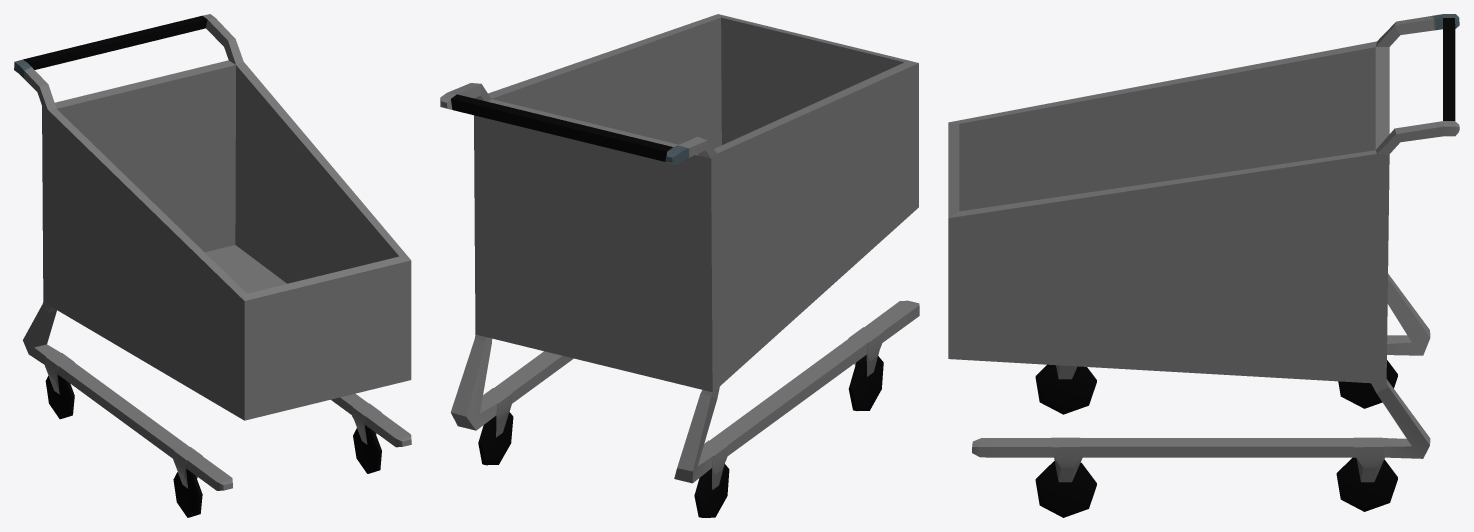
File: Shopping Cart.fbx
3 views of the same model, side by side, from view 1: azimuth 30°, elevation 25°; view 2: azimuth 150°, elevation 25°; view 3: azimuth 270°, elevation 25° (orthographic). The views are drawn at different scales.
Visible parts, largest first — view 1: Shopping_Cart; view 2: Shopping_Cart; view 3: Shopping_Cart.
Part boxes in pixels (x1,y1,x2,y2): Shopping_Cart: (14, 14, 411, 517); Shopping_Cart: (440, 14, 919, 517); Shopping_Cart: (948, 14, 1459, 517).
Size of the model in its own units: 1.07 by 1.71 by 2.01.
